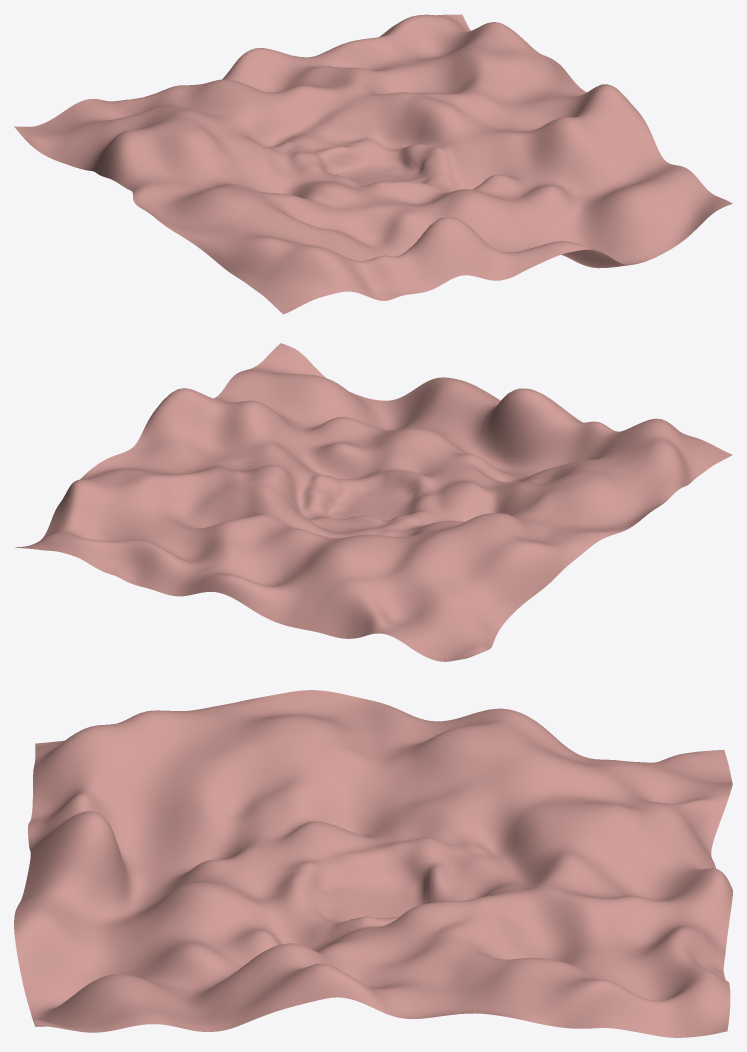
Rendered from Land.fbx.
3 views of the same model, one above another, from view 1: azimuth 30°, elevation 25°; view 2: azimuth 150°, elevation 25°; view 3: azimuth 270°, elevation 25° (orthographic). The views are drawn at different scales.
Parts seen in each view (by area): view 1: Land; view 2: Land; view 3: Land.
Part boxes in pixels (x1=…): Land: x1=14, y1=14, x2=732, y2=314; Land: x1=15, y1=343, x2=732, y2=661; Land: x1=14, y1=690, x2=732, y2=1037.
Bounding box in the file's own units: 100000 × 17001 × 100000.
